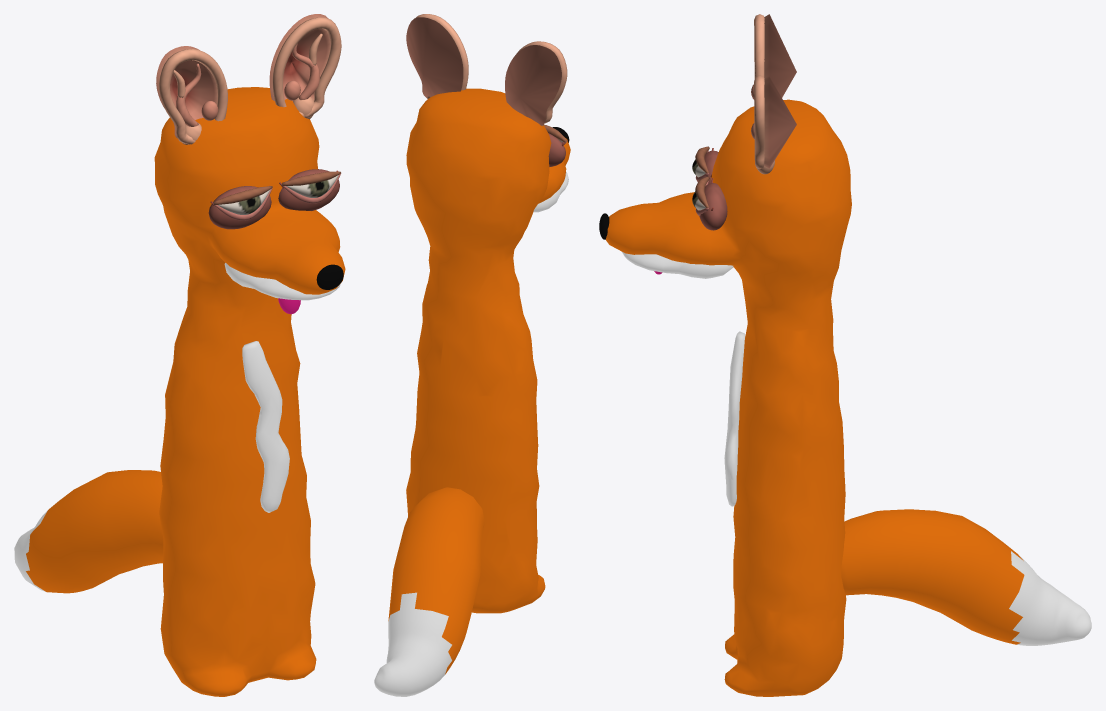
The model's file is fox.glb.
3 views of the same model, side by side, from view 1: azimuth 30°, elevation 25°; view 2: azimuth 150°, elevation 25°; view 3: azimuth 270°, elevation 25° (orthographic). The views are drawn at different scales.
Parts seen in each view (by area): view 1: Fox_Game; view 2: Fox_Game; view 3: Fox_Game.
Part boxes in pixels (x1,y1,x2,y2): Fox_Game: (14, 14, 345, 696); Fox_Game: (374, 14, 570, 696); Fox_Game: (599, 14, 1091, 696).
Bounding box in the file's own units: 1.4 × 4.79 × 3.41.
